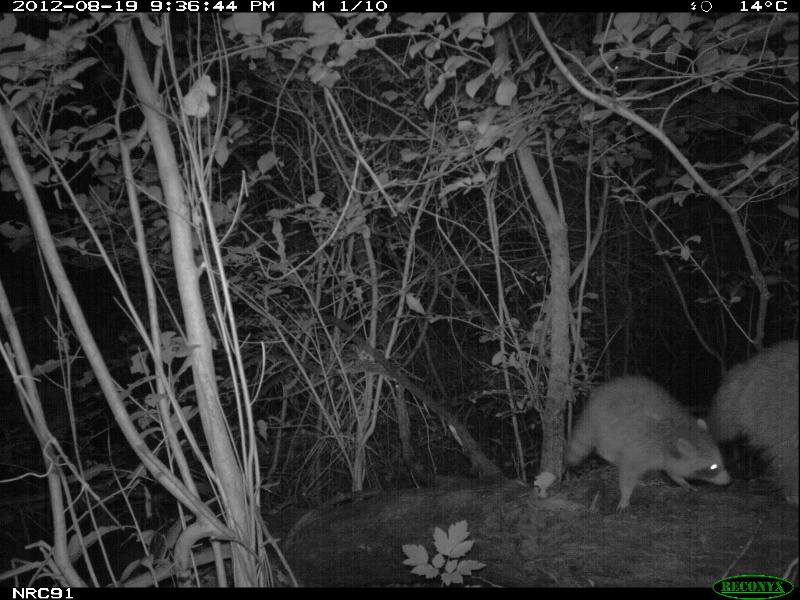raccoon: (564, 373, 734, 508)
